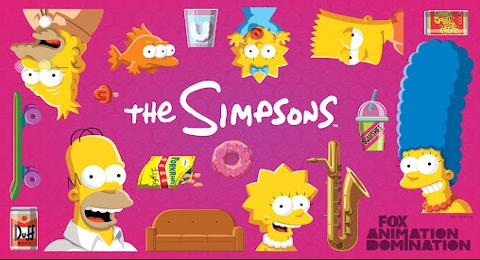Bart: (299, 4, 411, 72)
Homer: (38, 127, 165, 258)
Lisa: (235, 160, 326, 254)
Maggie: (226, 3, 293, 84)
Marge: (393, 34, 478, 221)
